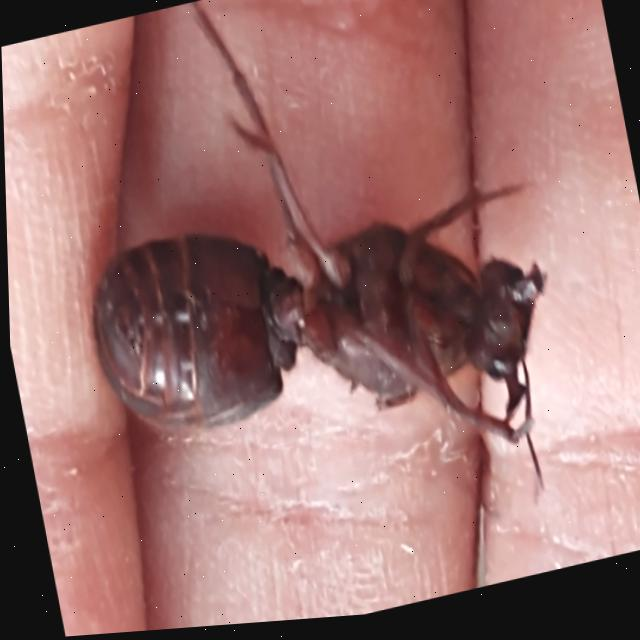Dead-Female-Dealate: (36, 0, 587, 595)
